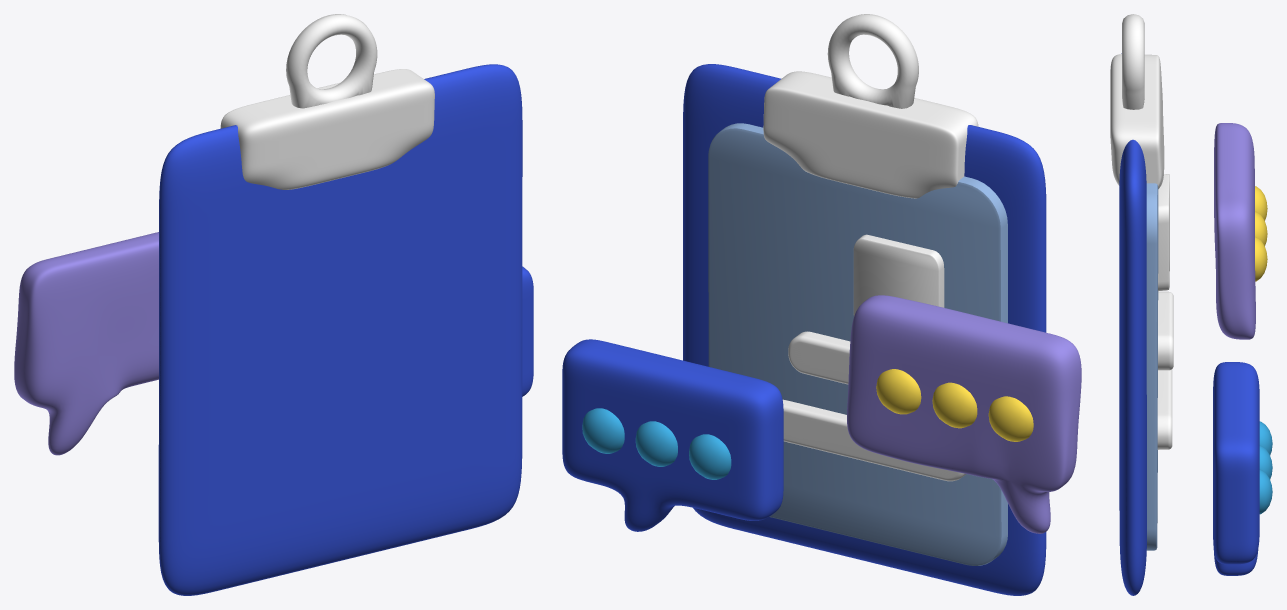
File: story_result.glb
3 views of the same model, side by side, from view 1: azimuth 30°, elevation 25°; view 2: azimuth 150°, elevation 25°; view 3: azimuth 270°, elevation 25° (orthographic). The views are drawn at different scales.
Bounding box in the file's own units: 7.69 × 7.93 × 2.31.
